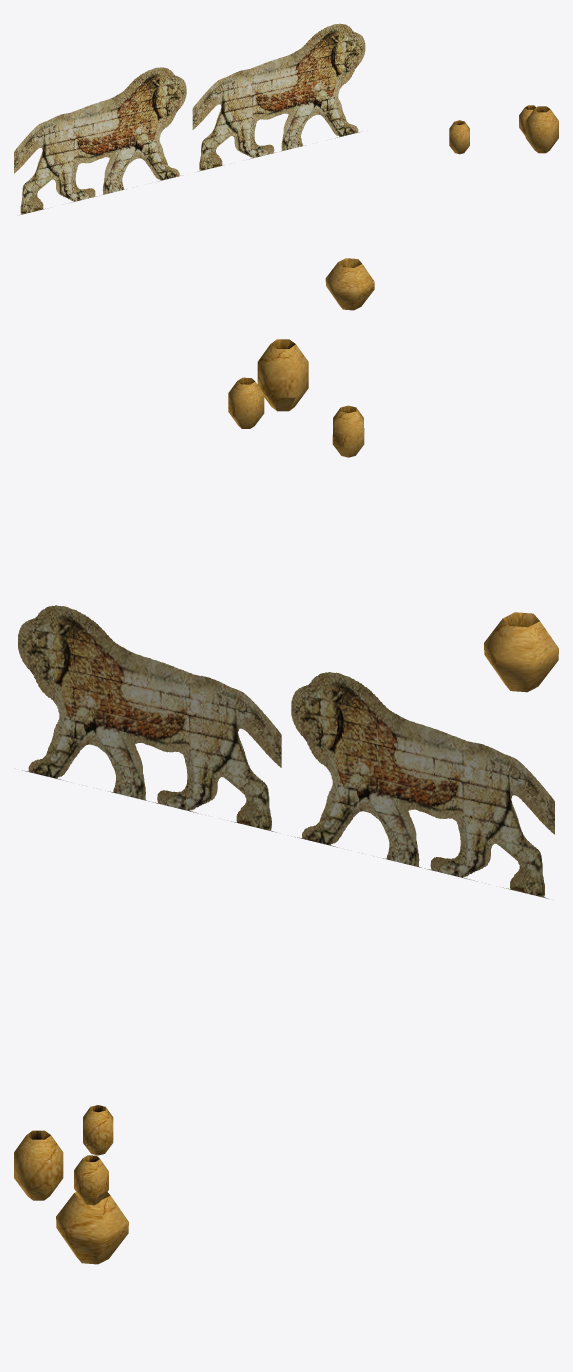
File: pers_alt_build_05_baskets_b.dae
3 renders of one model, top to bottom at view 1: azimuth 30°, elevation 25°; view 2: azimuth 150°, elevation 25°; view 3: azimuth 270°, elevation 25°, orthographic. The views are drawn at different scales.
Visible parts, largest first — view 1: Object14; view 2: Object14; view 3: Object14.
Boxes of the visible parts, x1,y1,x2,y2 form: Object14: (14, 23, 558, 310); Object14: (18, 339, 558, 898); Object14: (14, 1105, 128, 1264).
Bounding box in the file's own units: 13.51 × 11.65 × 5.87.
